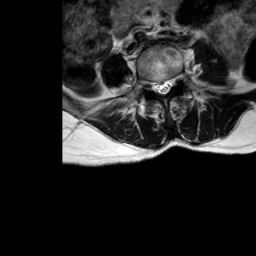CCS_severe_stenosis: (160, 71, 166, 101)
LFS_normal: (172, 65, 179, 89)
LLS_normal: (166, 71, 173, 96)
RFS_normal: (145, 71, 152, 95)
RLS_normal: (152, 70, 160, 99)
